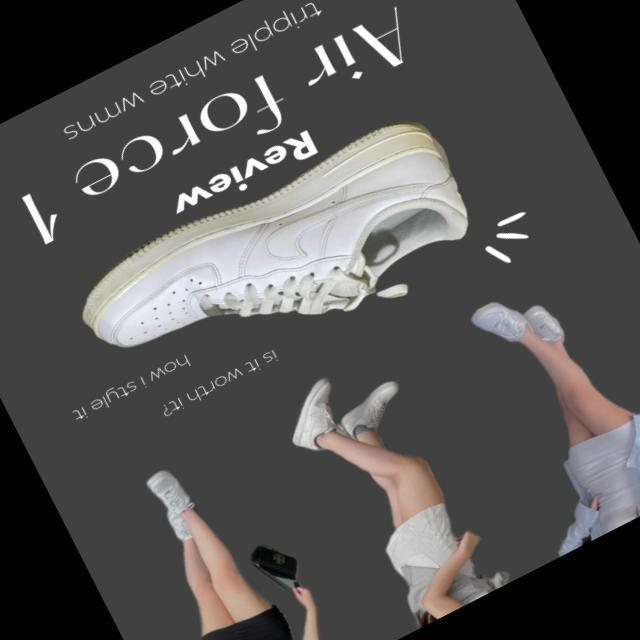nike original air force: (64, 99, 490, 414)
